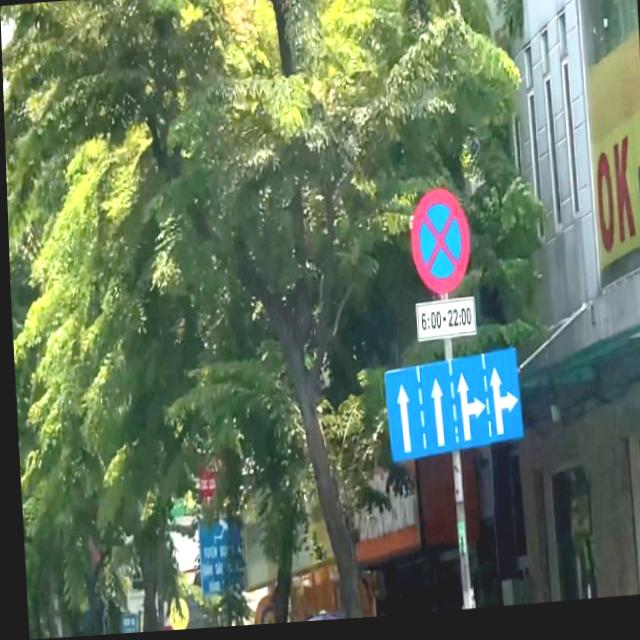Cam dung xe va do xe: (403, 190, 473, 306)
